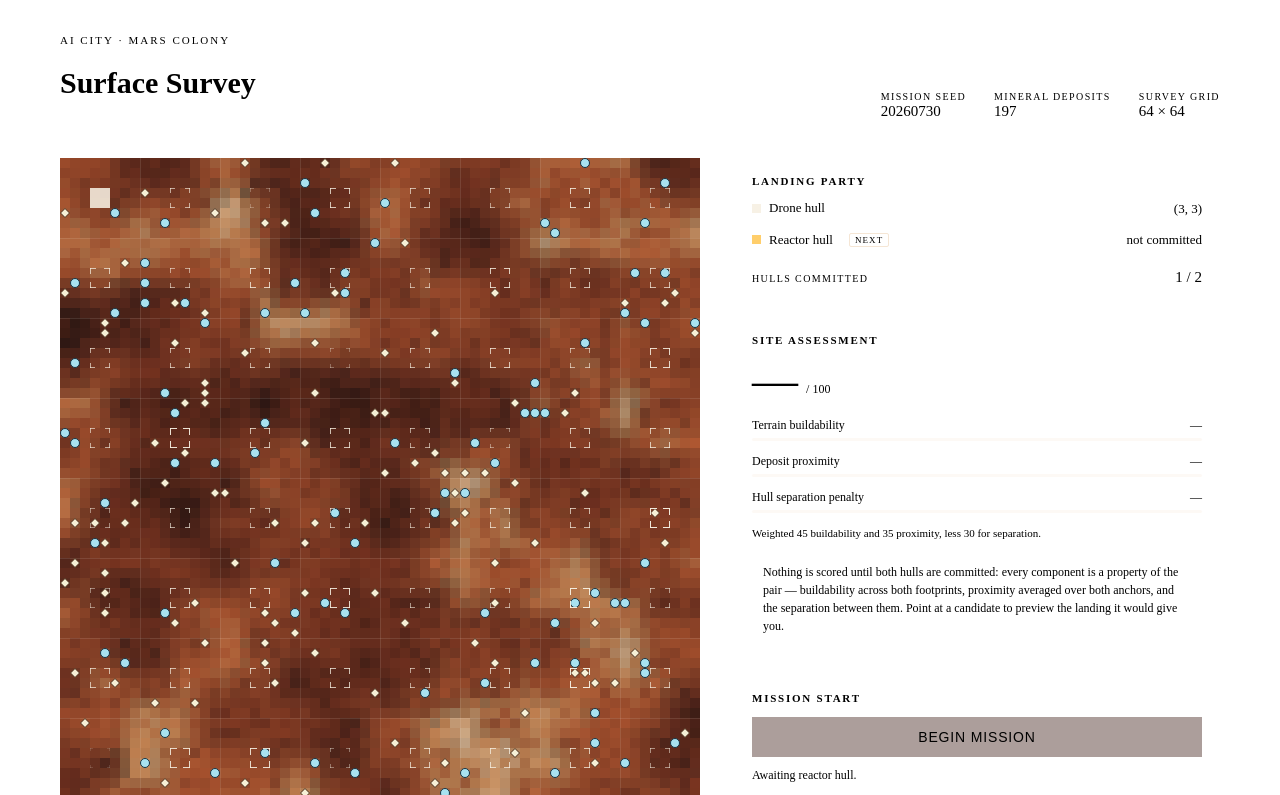
Scenario: SurveyScreen — previewing a candidate before committing › should preview on keyboard focus too, not only under a mouse
The image size is (1280, 795).
Focus the button named "Candidate touchdown point (11, 11) — commits the reactor hul" at x=180, y=278, box [166,264,194,292]
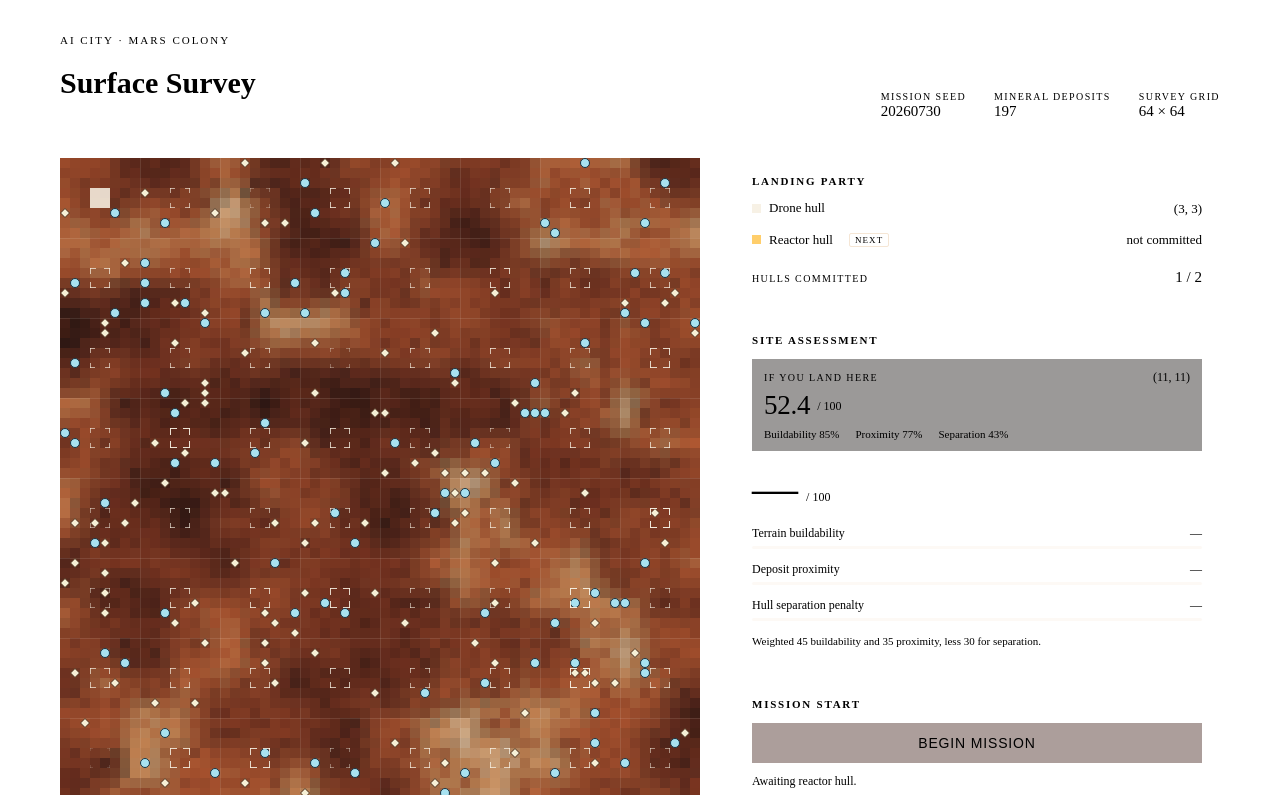
Now the element that starts with "If you land here" is shown, box [752,359,1202,451]
